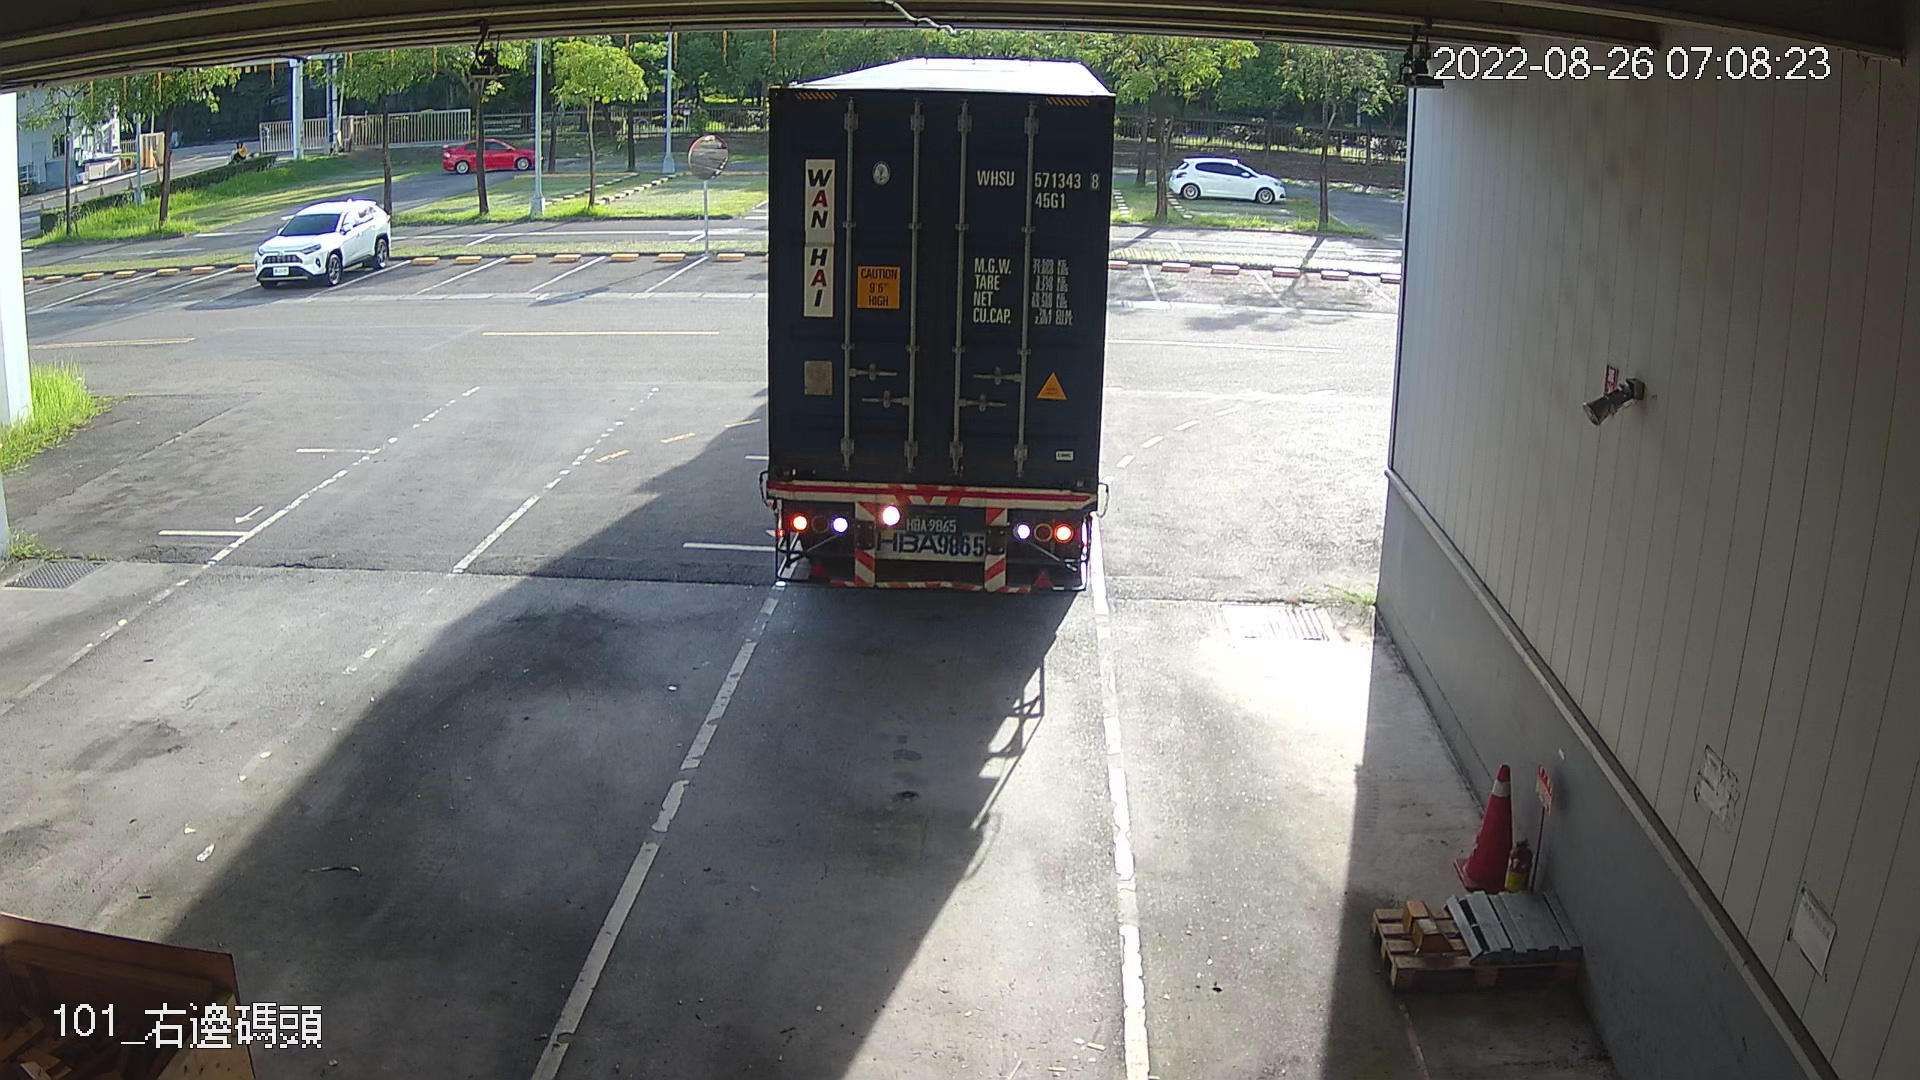container: (963, 158, 1106, 218)
